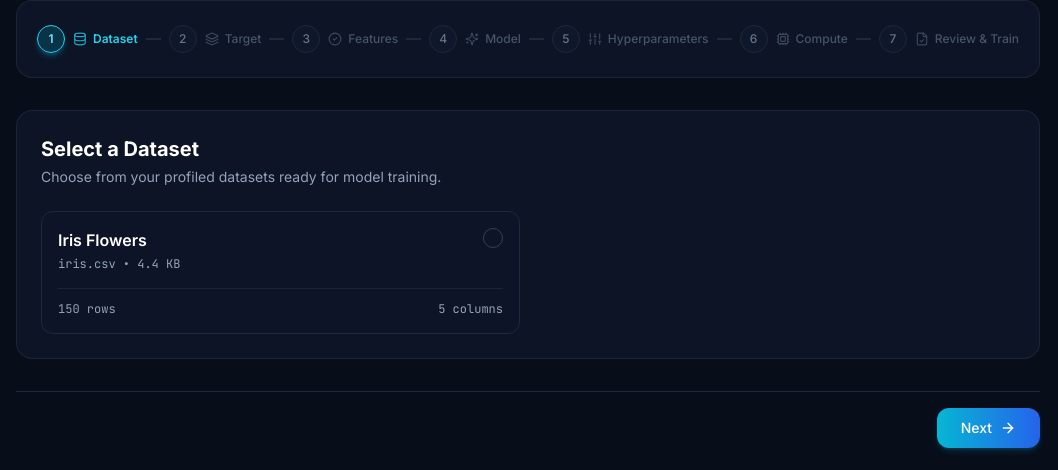
Test case: Wizard Component & Validation › progresses to Target step when dataset is chosen
The image size is (1058, 470).
Click the heading "Iris Flowers". click: (102,240)
box: [58, 230, 147, 250]
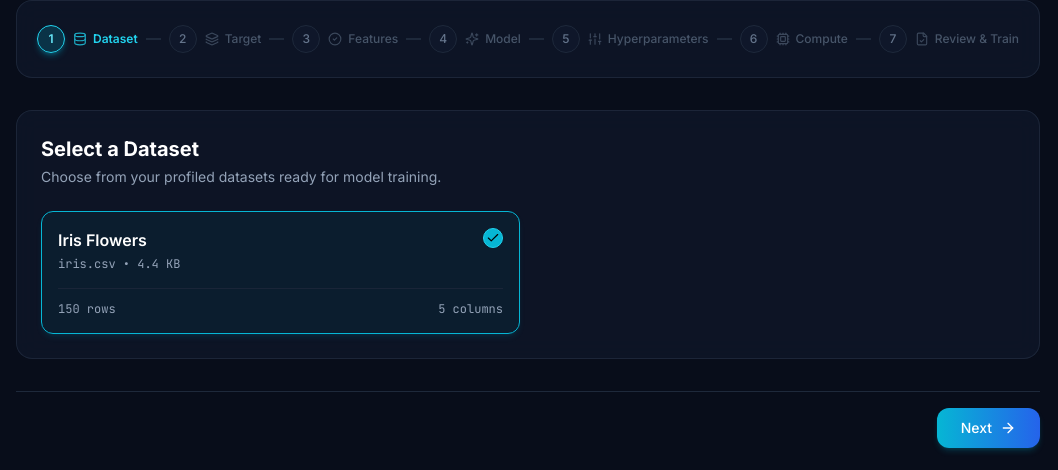
Click the button "Next". click: (988,428)
box: [937, 408, 1040, 448]
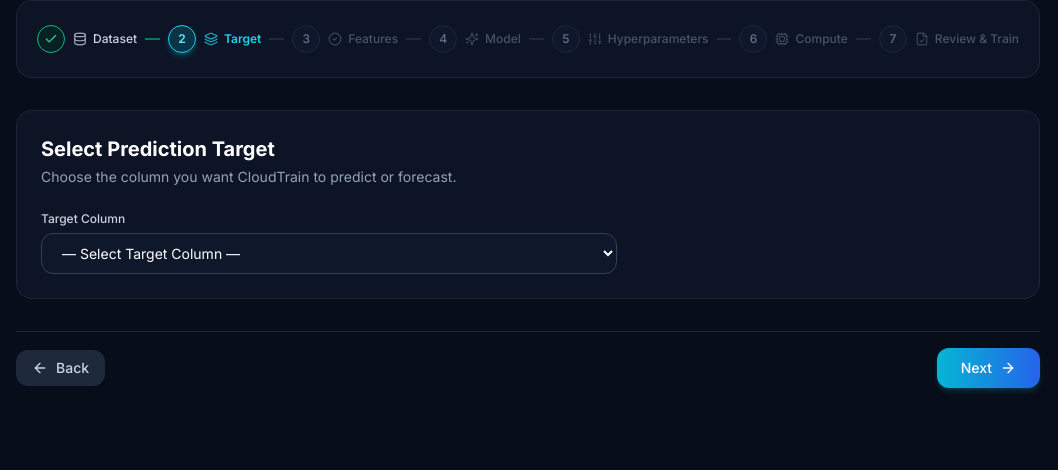
Expected: the heading "Select Prediction Target" is shown, [41, 137, 275, 161]
